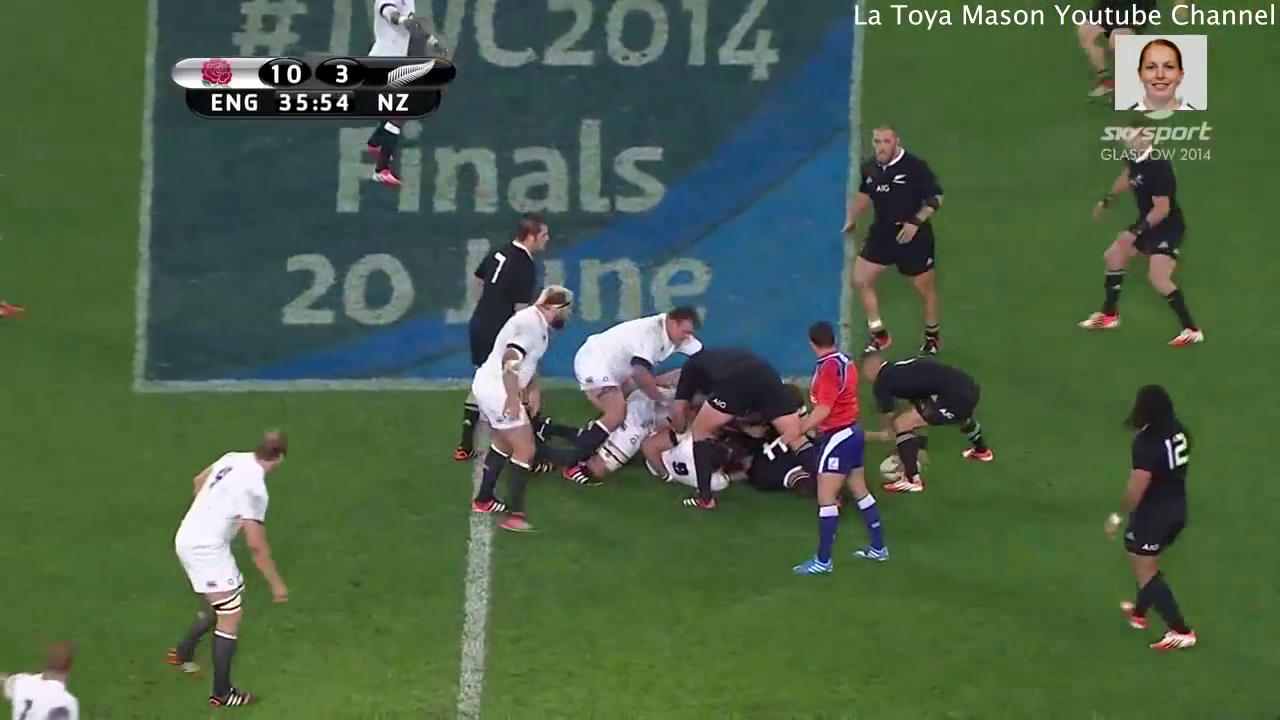ball: (873, 440, 924, 502)
player: (150, 397, 309, 720), (1066, 119, 1215, 352), (783, 296, 903, 584), (1096, 366, 1210, 665), (455, 279, 579, 544), (826, 112, 956, 359), (536, 299, 712, 480), (662, 326, 823, 520), (443, 205, 552, 475), (843, 336, 1006, 496), (1, 633, 95, 720)
ruck: (525, 308, 860, 509)
